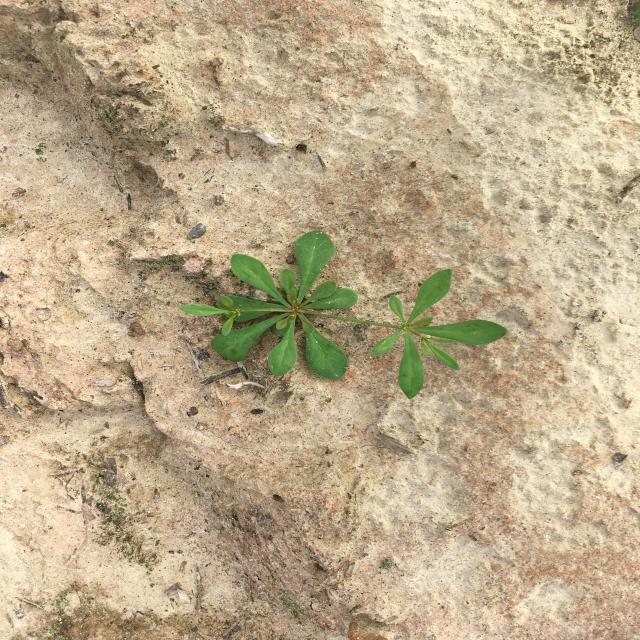Carpetweed: (179, 230, 509, 400)
